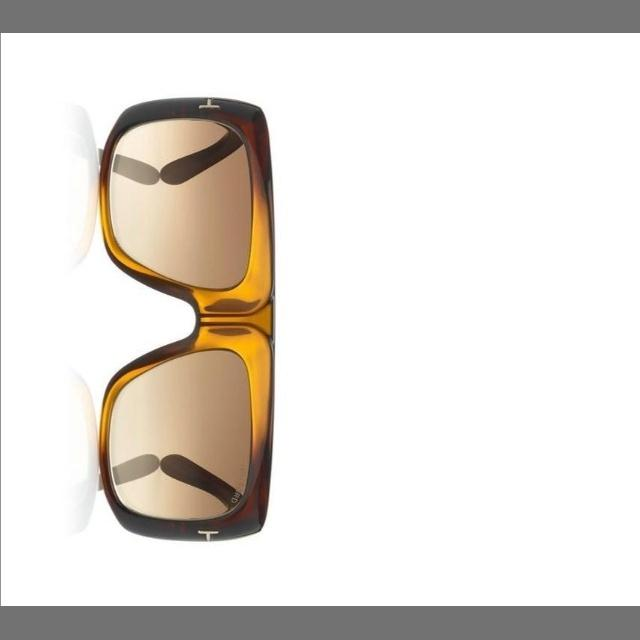Sunglasses: (67, 75, 309, 577)
